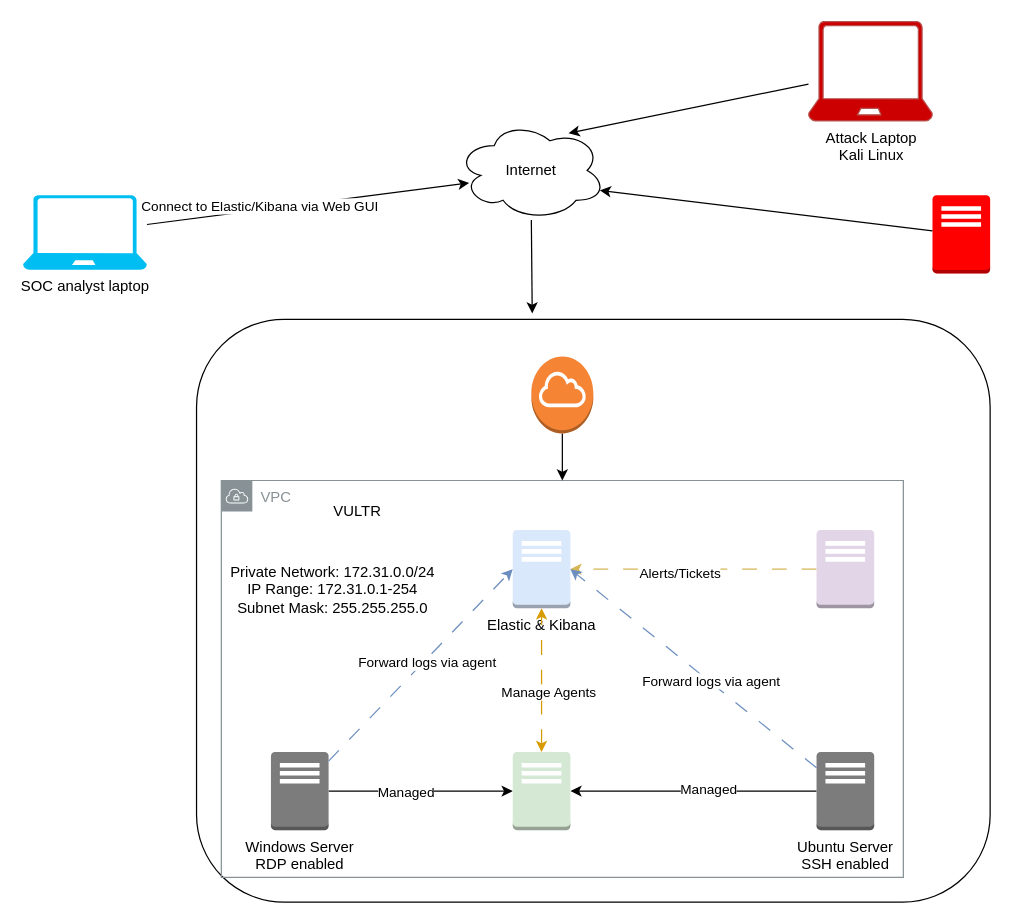
This 1017x924 diagram has some shape labels left out. Each missing label, with the centre of its shape:
"C2 Server Mythic" belongs at (x=960, y=233).
"Fleet Servers" belongs at (x=541, y=790).
"osTicket Server" belongs at (x=844, y=568).
